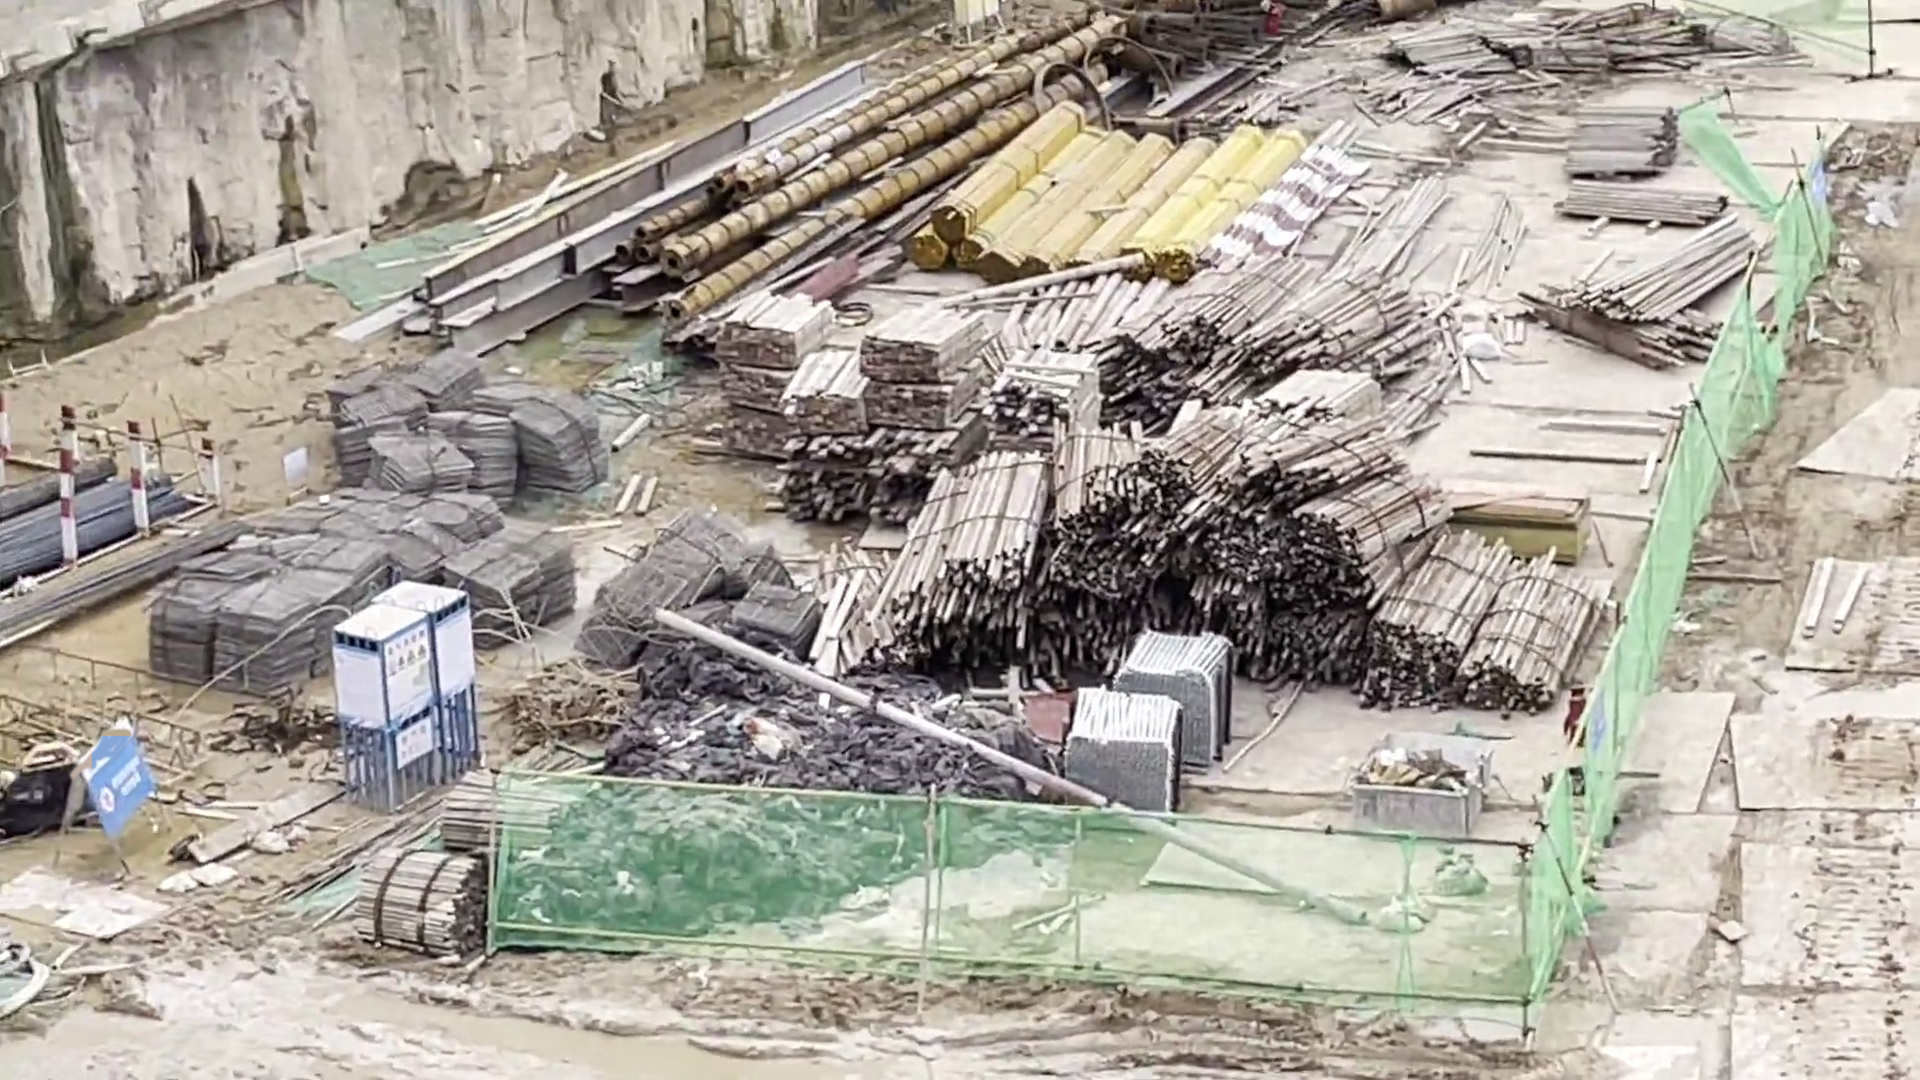hopper: (1362, 729, 1489, 832)
rebar: (1, 464, 222, 617)
scaffold: (1068, 690, 1180, 822), (1117, 626, 1228, 760)
slogan: (90, 721, 148, 837)
wood: (831, 419, 1600, 673), (1007, 272, 1437, 415), (720, 310, 945, 465), (1586, 222, 1751, 324), (1568, 112, 1710, 218), (345, 852, 472, 936), (448, 774, 545, 847)
